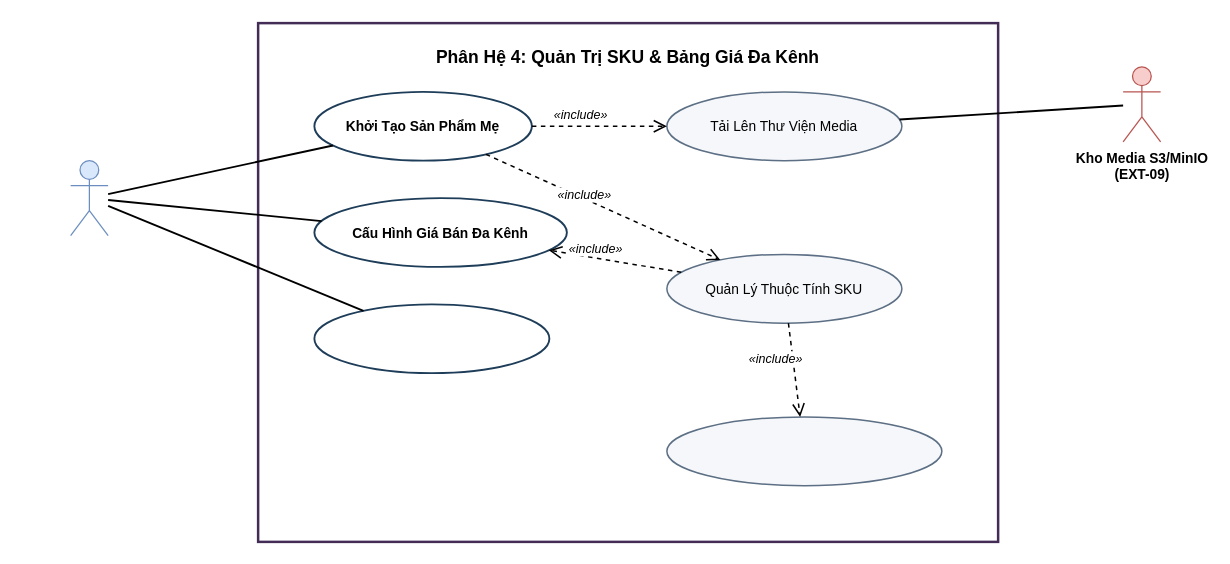
This 1230x564 diagram has some shape labels left out. Each missing label, with the centre of its shape:
"Quản Lý Kinh Doanh (ACT-12)" belongs at pixel 88 197.
"Quản Lý Trạng Thái Bán" belongs at pixel 431 338.
"Thiết Lập HSD, NSX & Bảo Quản" belongs at pixel 804 451.
